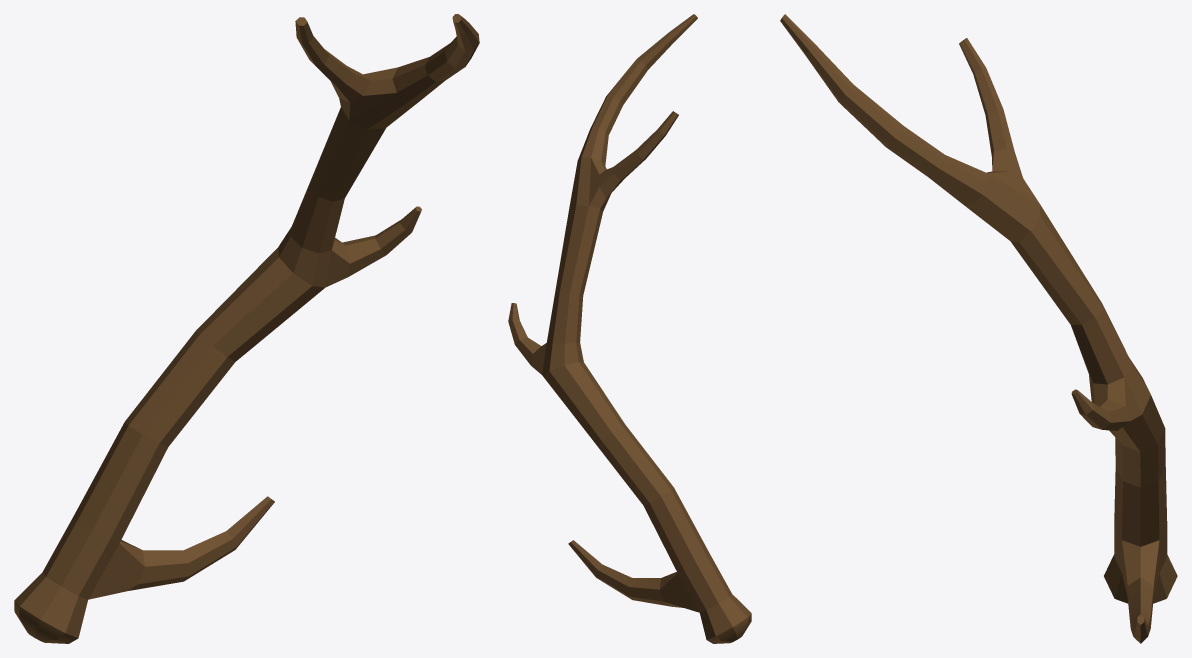
File: Mesh_Antler.obj
The picture shows the model from 3 angles, left to right: view 1: azimuth 30°, elevation 25°; view 2: azimuth 150°, elevation 25°; view 3: azimuth 270°, elevation 25°; orthographic projection. The views are drawn at different scales.
Visible parts, largest first — view 1: Geo_Antler; view 2: Geo_Antler; view 3: Geo_Antler.
Part boxes in pixels (x1,y1,x2,y2): Geo_Antler: (14, 14, 479, 643); Geo_Antler: (508, 14, 751, 643); Geo_Antler: (780, 14, 1177, 643).
Bounding box in the file's own units: 22.29 × 40.71 × 21.08.
